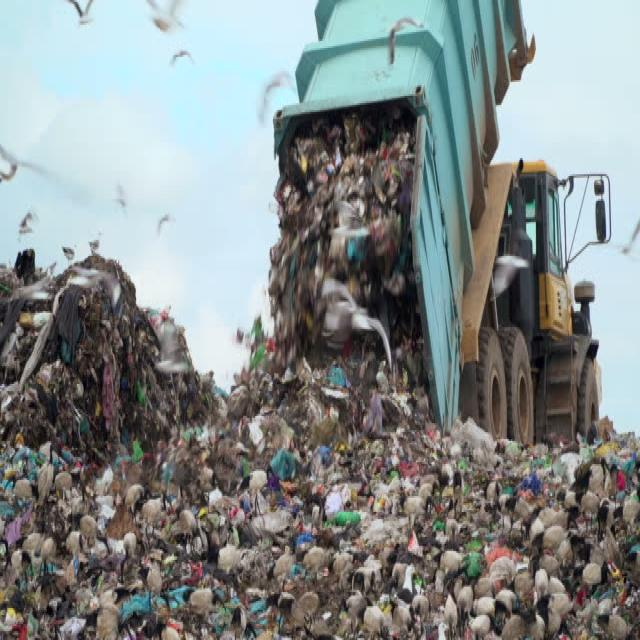plastic: (37, 437, 616, 633)
